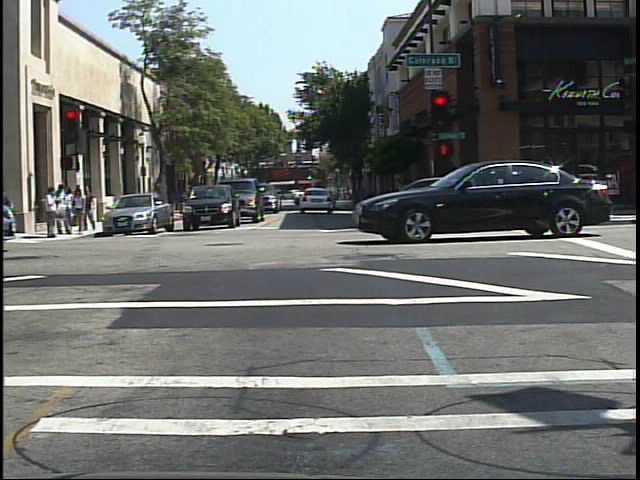person: (147, 182, 166, 218)
